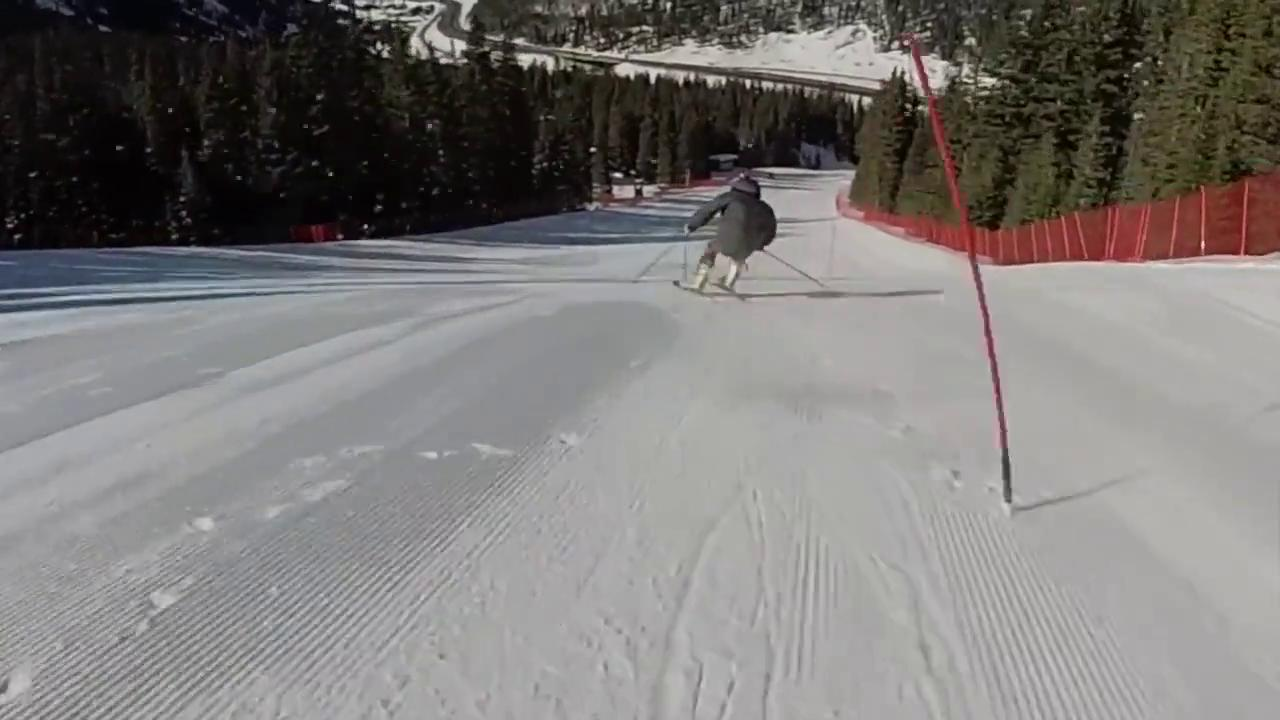gate: (905, 35, 1013, 510)
